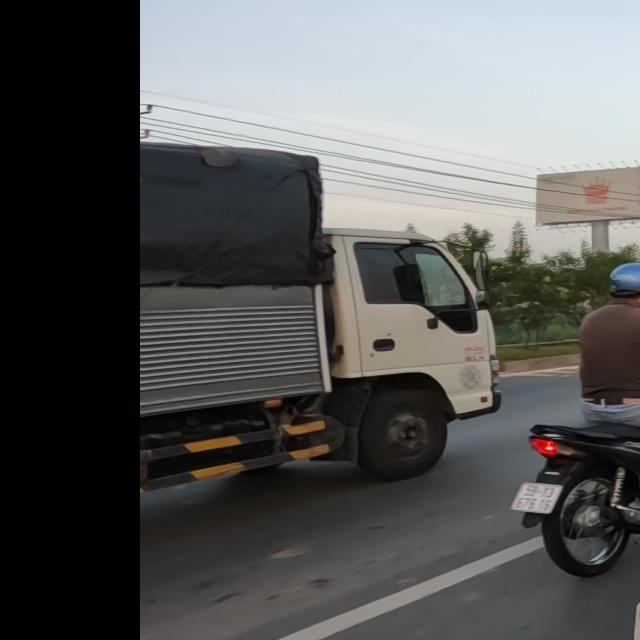license-plate: (509, 481, 564, 516)
